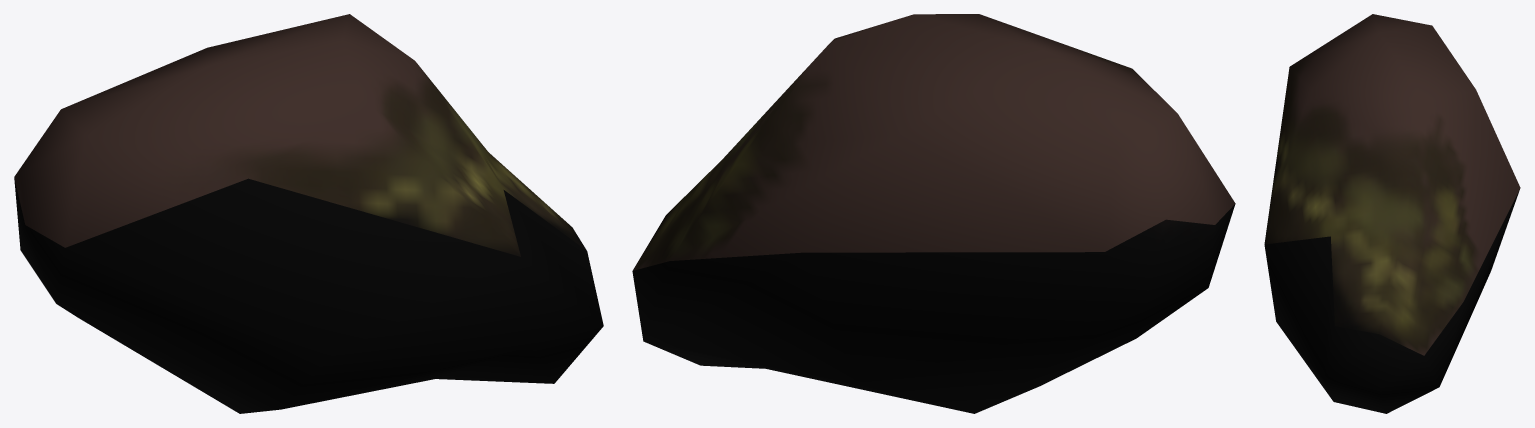
Rendered from SM_RockLagoon_04.fbx.
3 views of the same model, side by side, from view 1: azimuth 30°, elevation 25°; view 2: azimuth 150°, elevation 25°; view 3: azimuth 270°, elevation 25° (orthographic). The views are drawn at different scales.
Parts seen in each view (by area): view 1: Esfera.009; view 2: Esfera.009; view 3: Esfera.009.
Part boxes in pixels (x1=…): Esfera.009: x1=14, y1=14, x2=603, y2=413; Esfera.009: x1=632, y1=14, x2=1235, y2=413; Esfera.009: x1=1264, y1=14, x2=1520, y2=413.
Bounding box in the file's own units: 3.32 × 2.19 × 1.89.
1 material, 1 textured.
